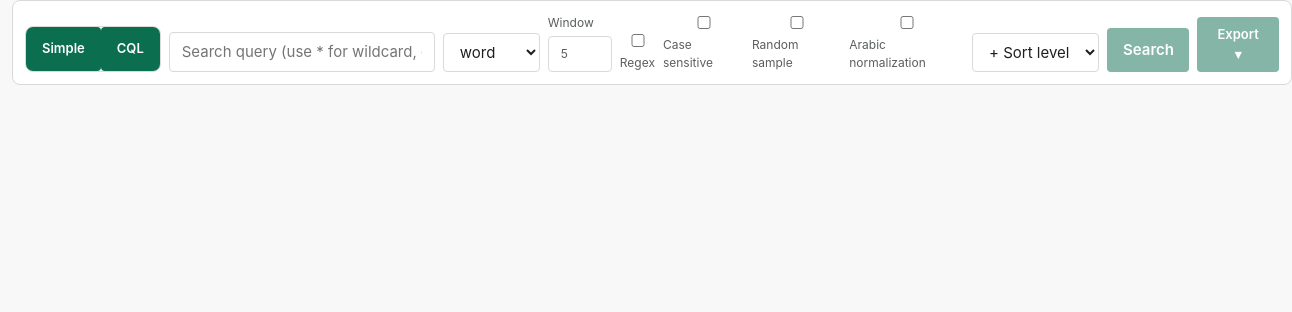
Scenario: CQL error rendering › 422 syntax error shows the position-annotated detail + caret
The image size is (1292, 312).
Click the button with class "mode-toggle-btn" showing "CQL". click: (130, 49)
box: [101,27,160,71]
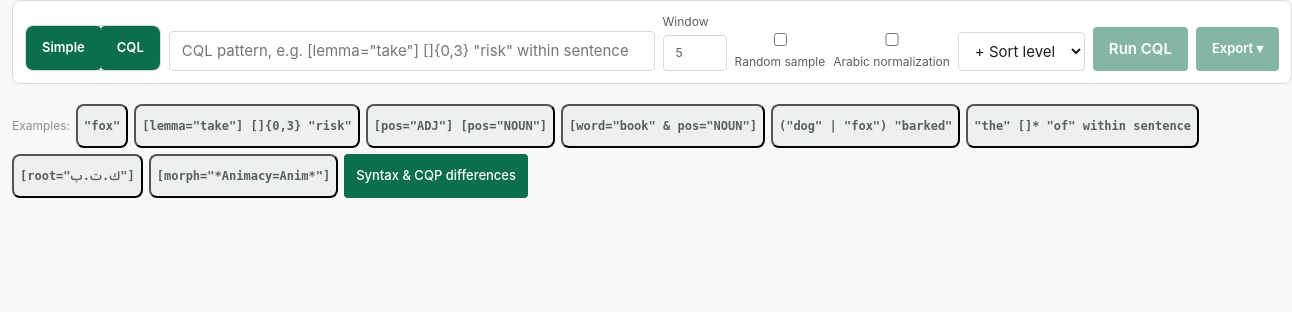
Replace the text in the field with class "search-input" with "[lemma=\"x\"". click: (412, 51)
box: [169,30,655,71]
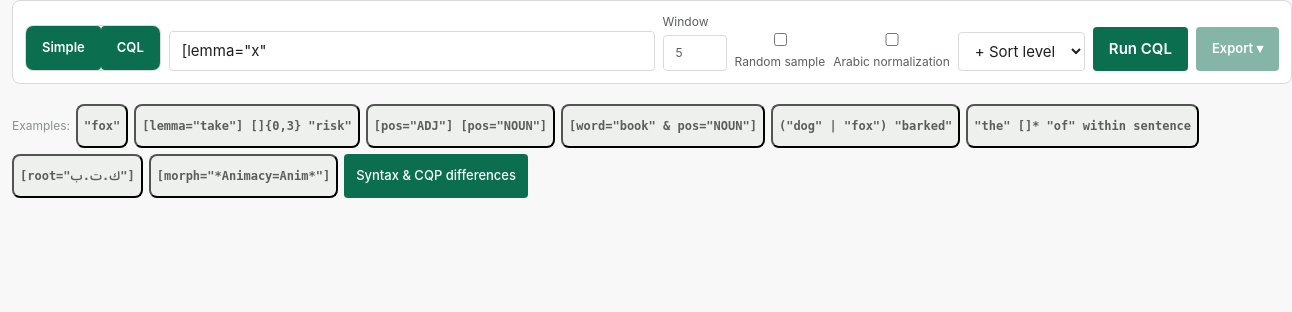
Click the button "Run CQL". click: (1140, 49)
box: [1093,27,1188,71]
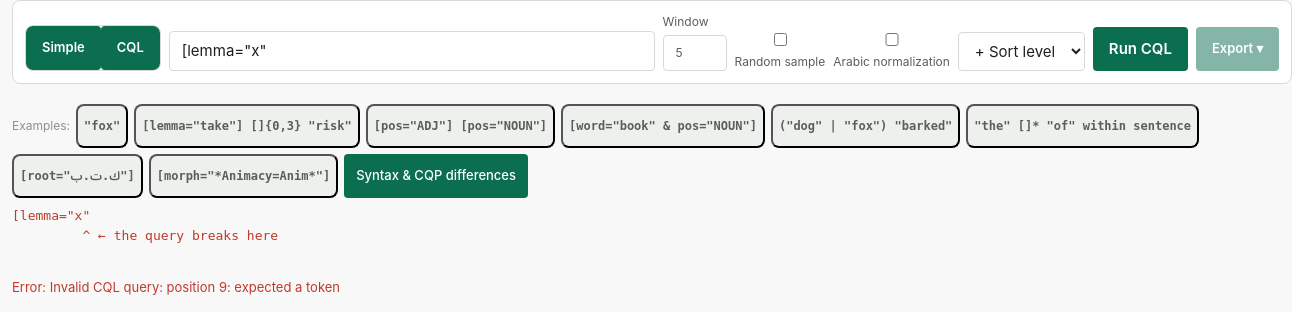
Check: the message "Error: Invalid CQL query: position 9: expected a token" is shown, box [12,279,340,295]
Check: the text with test id "cql-error-caret" shows "^", box [12,208,278,242]
